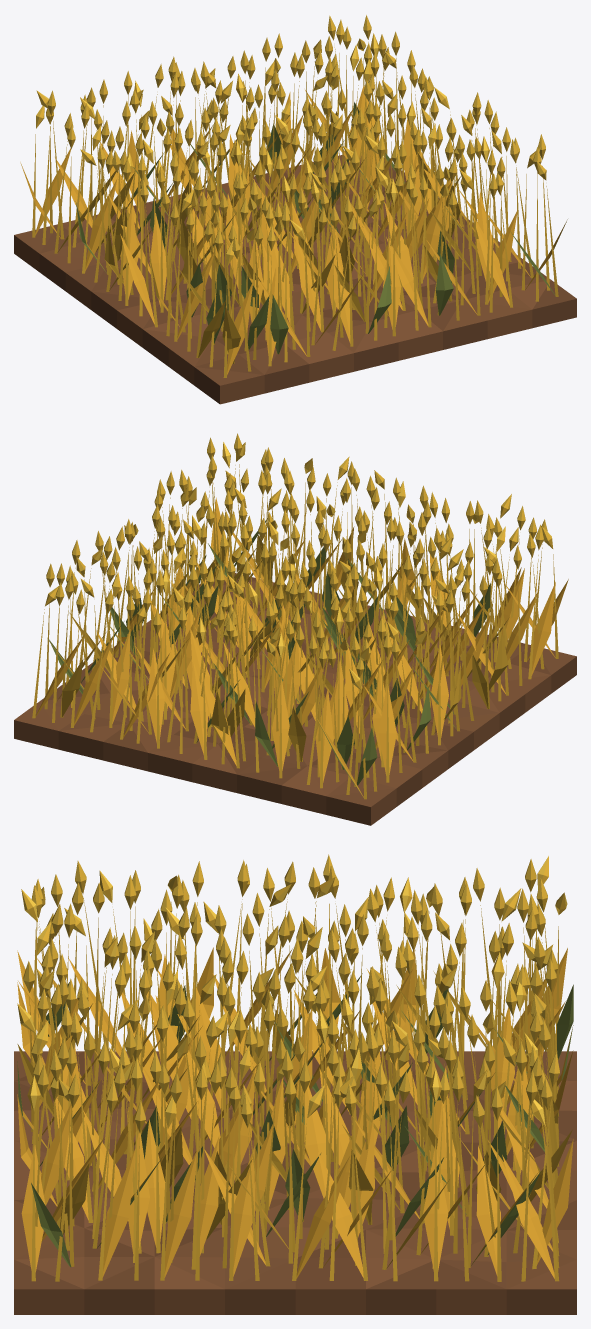
Rendered from FMS_Crop_WheatField_Golden.fbx.
3 renders of one model, top to bottom at view 1: azimuth 30°, elevation 25°; view 2: azimuth 150°, elevation 25°; view 3: azimuth 270°, elevation 25°, orthographic. The views are drawn at different scales.
Visible parts, largest first — view 1: FMS_Crop_WheatField_Golden; view 2: FMS_Crop_WheatField_Golden; view 3: FMS_Crop_WheatField_Golden.
Boxes of the visible parts, x1,y1,x2,y2 form: FMS_Crop_WheatField_Golden: (14, 15, 576, 404); FMS_Crop_WheatField_Golden: (14, 433, 576, 825); FMS_Crop_WheatField_Golden: (14, 854, 576, 1314).
Bounding box in the file's own units: 2 × 0.9236 × 2.
